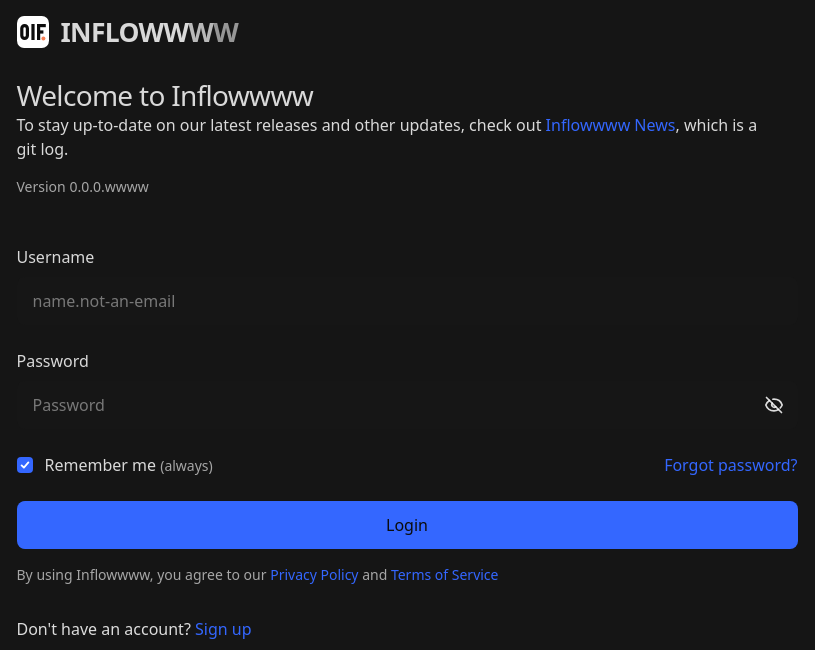
Scenario: Landing typed sign-in refusals › a wrong password is one request and shows the Relay's words
The width and height of the screenshot is (815, 650).
In the field labelled "Username": {"x": 407, "y": 301} [16,277,798,325], type "ann"
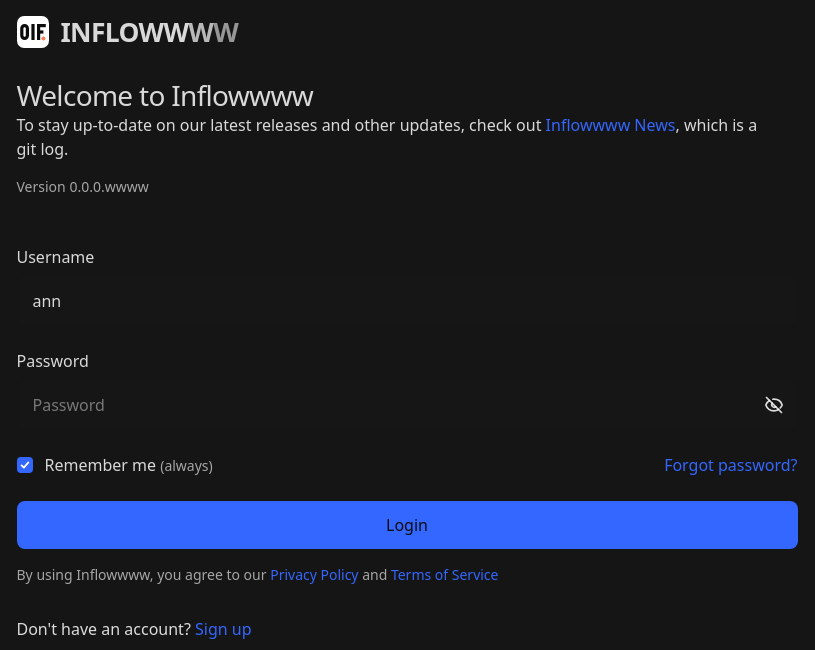
In the password field with placeholder "Password": {"x": 407, "y": 405} [16,381,798,429], type "secret-pw"
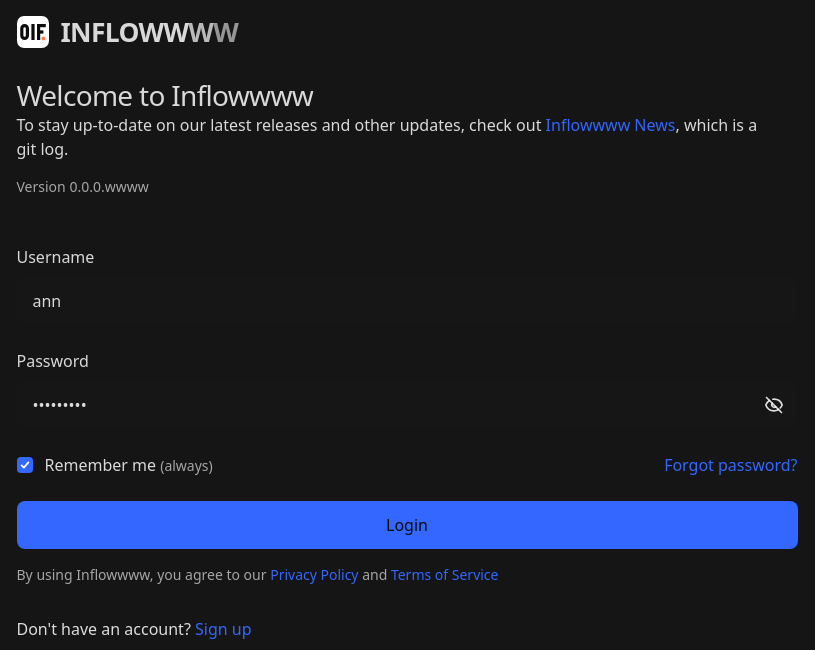
Submit the form, box [16,245,798,585]
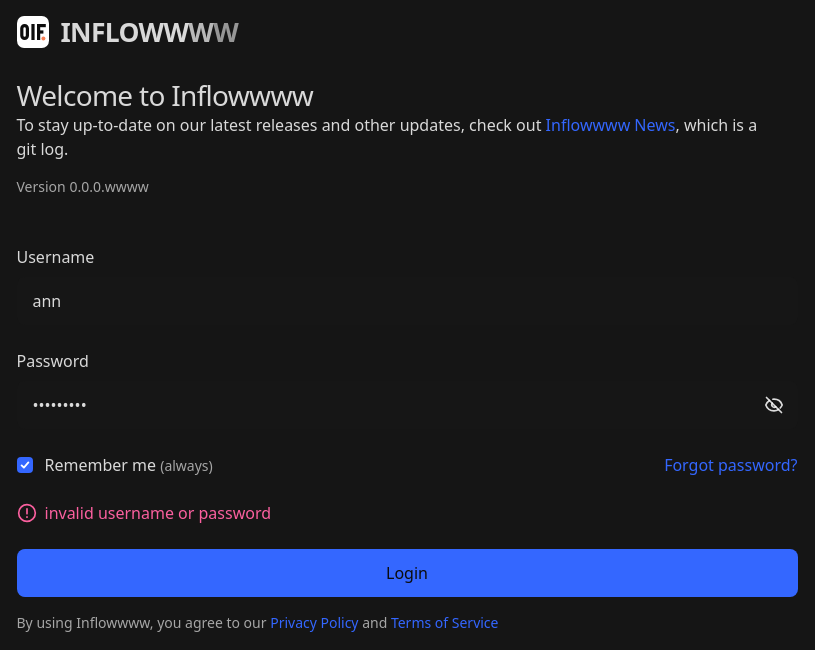
Check: the text "invalid username or password" is shown, box [16,502,271,524]
